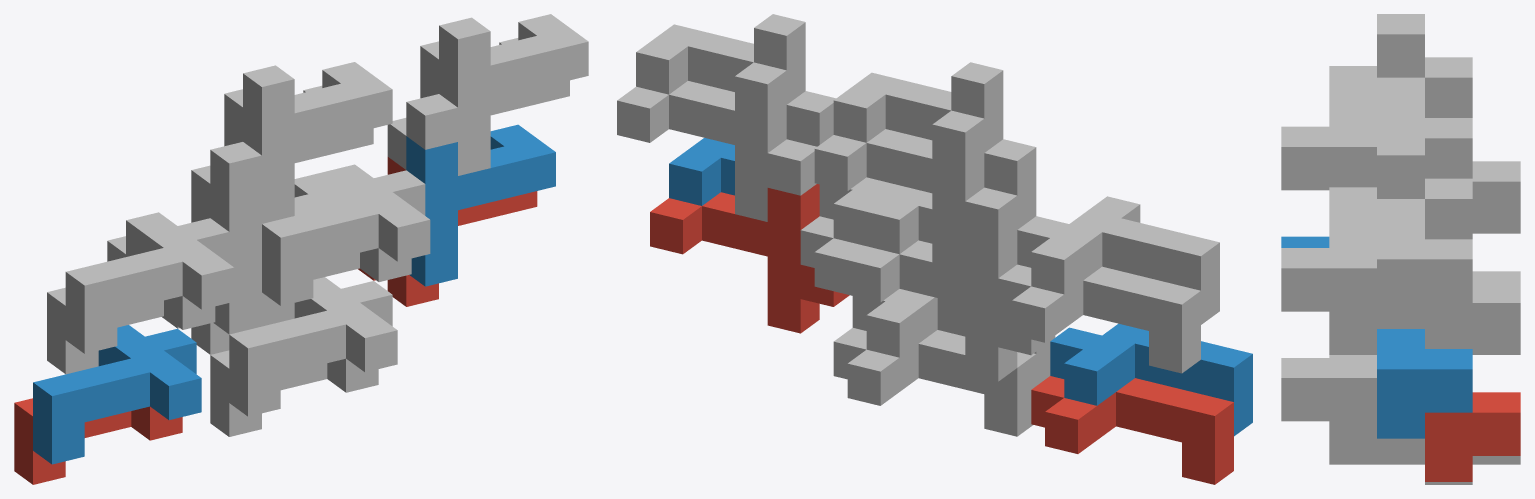
File: tiling.obj
3 views of the same model, side by side, from view 1: azimuth 30°, elevation 25°; view 2: azimuth 150°, elevation 25°; view 3: azimuth 270°, elevation 25° (orthographic). The views are drawn at different scales.
Parts seen in each view (by area): view 1: copy_2_domain_8, copy_2_domain_4, copy_1_domain_4, copy_1_domain_6, copy_1_domain_2, copy_1_domain_8, copy_2_domain_6, copy_2_domain_2, copy_1_domain_3, copy_1_domain_5, copy_1_domain_1, copy_2_domain_3 (+4 smaller); view 2: copy_2_domain_3, copy_2_domain_7, copy_1_domain_4, copy_1_domain_1, copy_1_domain_3, copy_2_domain_1, copy_2_domain_5, copy_2_domain_4, copy_2_domain_8, copy_1_domain_2, copy_1_domain_5, copy_1_domain_6 (+4 smaller); view 3: copy_2_domain_8, copy_1_domain_8, copy_1_domain_4, copy_2_domain_4, copy_2_domain_6, copy_2_domain_7, copy_1_domain_6, copy_2_domain_5, copy_2_domain_3, copy_1_domain_5, copy_1_domain_7, copy_2_domain_1 (+2 smaller).
Boxes of the visible parts, x1,y1,x2,y2 form: copy_2_domain_8: (406, 14, 588, 175); copy_2_domain_4: (210, 62, 392, 223); copy_1_domain_4: (65, 212, 234, 353); copy_1_domain_6: (229, 277, 397, 416); copy_1_domain_2: (33, 325, 201, 464); copy_1_domain_8: (262, 164, 430, 305); copy_2_domain_6: (406, 124, 555, 286); copy_2_domain_2: (210, 172, 359, 334); copy_1_domain_3: (47, 236, 215, 374); copy_1_domain_5: (210, 350, 378, 436); copy_1_domain_1: (14, 398, 182, 484); copy_2_domain_3: (191, 85, 373, 217); copy_2_domain_3: (814, 110, 1017, 269); copy_2_domain_7: (617, 62, 816, 221); copy_1_domain_4: (1017, 196, 1219, 324); copy_1_domain_1: (1031, 376, 1233, 484); copy_1_domain_3: (998, 264, 1200, 373); copy_2_domain_1: (847, 230, 1050, 381); copy_2_domain_5: (650, 184, 849, 333); copy_2_domain_4: (833, 62, 1036, 195); copy_2_domain_8: (636, 14, 835, 146); copy_1_domain_2: (1050, 323, 1252, 436); copy_1_domain_5: (833, 327, 1036, 436); copy_1_domain_6: (852, 289, 1055, 385); copy_2_domain_8: (1377, 135, 1472, 328); copy_1_domain_8: (1281, 187, 1376, 311); copy_1_domain_4: (1281, 66, 1376, 190); copy_2_domain_4: (1377, 14, 1472, 178); copy_2_domain_6: (1377, 329, 1472, 438); copy_2_domain_7: (1425, 178, 1520, 348); copy_1_domain_6: (1281, 355, 1424, 441); copy_2_domain_5: (1425, 392, 1520, 481); copy_2_domain_3: (1425, 57, 1520, 224); copy_1_domain_5: (1329, 421, 1520, 484); copy_1_domain_7: (1329, 311, 1520, 354); copy_2_domain_1: (1472, 271, 1520, 282).
Size of the model in its own units: 17 by 10 by 5.
